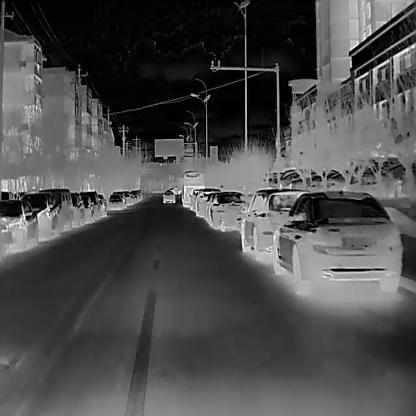bus: (180, 168, 203, 207)
car: (273, 191, 402, 295), (241, 187, 310, 254), (0, 197, 38, 251), (23, 191, 60, 240), (203, 190, 245, 231), (41, 186, 73, 232), (66, 189, 84, 227), (193, 188, 215, 218), (75, 190, 93, 223), (84, 189, 99, 220), (92, 193, 106, 217), (107, 191, 122, 210), (161, 189, 176, 203), (188, 185, 197, 208)
